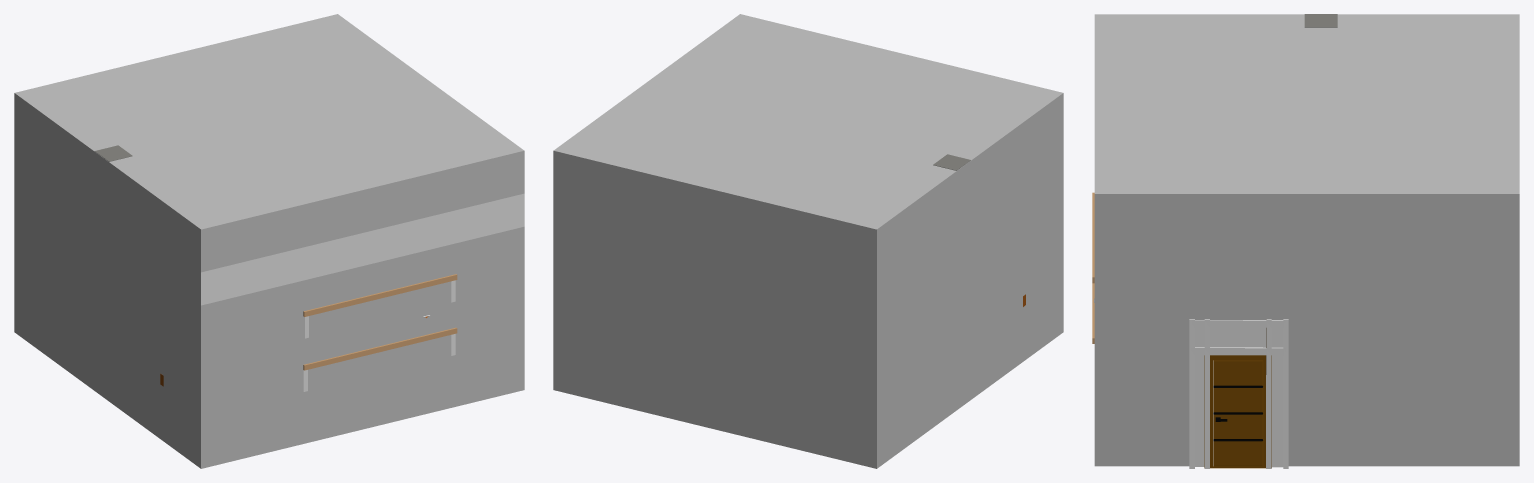
Rendered from ruangan.fbx.
The picture shows the model from 3 angles, left to right: view 1: azimuth 30°, elevation 25°; view 2: azimuth 150°, elevation 25°; view 3: azimuth 270°, elevation 25°; orthographic projection. The views are drawn at different scales.
Parts seen in each view (by area): view 1: Cube, Cube.003, Cube.004; view 2: Cube; view 3: Cube, pintu.002, pintu.007, pintu.001, cerobong asap.
Boxes of the visible parts, left/top/right/bottom form: Cube: left=14, top=14, right=524, bottom=468; Cube.003: left=303, top=327, right=457, bottom=370; Cube.004: left=303, top=274, right=457, bottom=316; Cube: left=553, top=14, right=1063, bottom=468; Cube: left=1094, top=14, right=1519, bottom=466; pintu.002: left=1204, top=355, right=1271, bottom=468; pintu.007: left=1189, top=319, right=1288, bottom=468; pintu.001: left=1195, top=327, right=1283, bottom=467; cerobong asap: left=1304, top=14, right=1337, bottom=27.
Bounding box in the file's own units: 2914 × 2072 × 2917.
